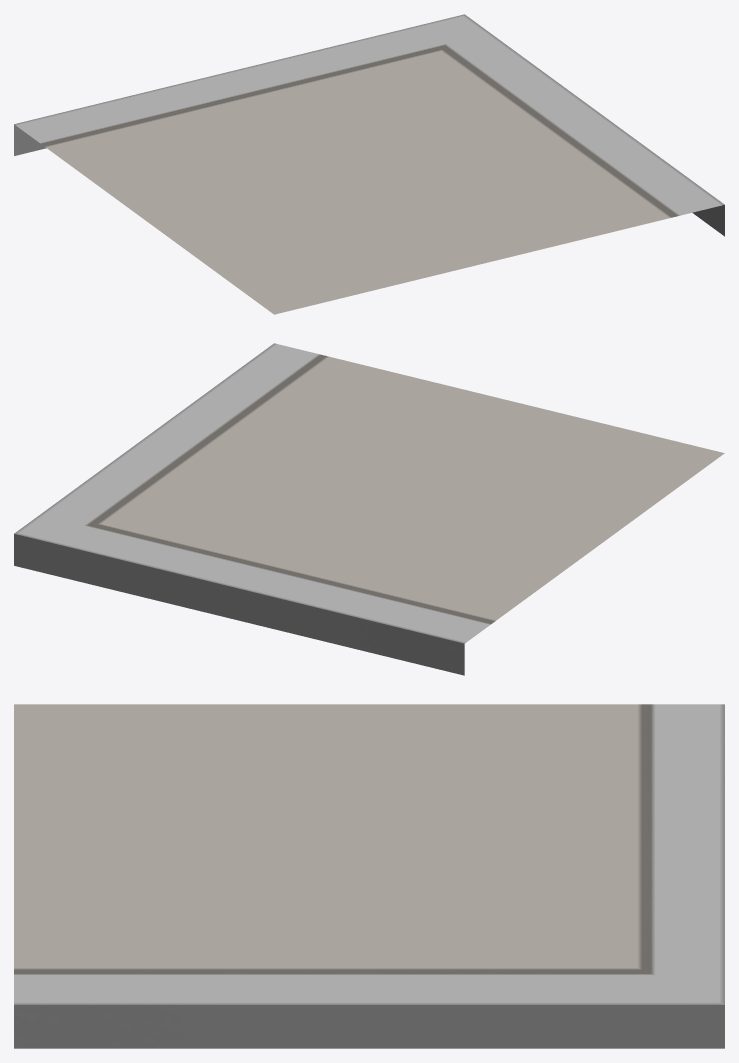
Rendered from road_corner_only_minimal_mesh.fbx.
3 renders of one model, top to bottom at view 1: azimuth 30°, elevation 25°; view 2: azimuth 150°, elevation 25°; view 3: azimuth 270°, elevation 25°, orthographic. The views are drawn at different scales.
Visible parts, largest first — view 1: road_corner_mesh; view 2: road_corner_mesh; view 3: road_corner_mesh.
Boxes of the visible parts, box(x1,y1,x2,y2) form: road_corner_mesh: box(14, 14, 724, 314); road_corner_mesh: box(14, 343, 724, 675); road_corner_mesh: box(14, 704, 724, 1048).
Size of the model in its own units: 2.87 by 0.1948 by 2.87.
1 material, 1 textured.
